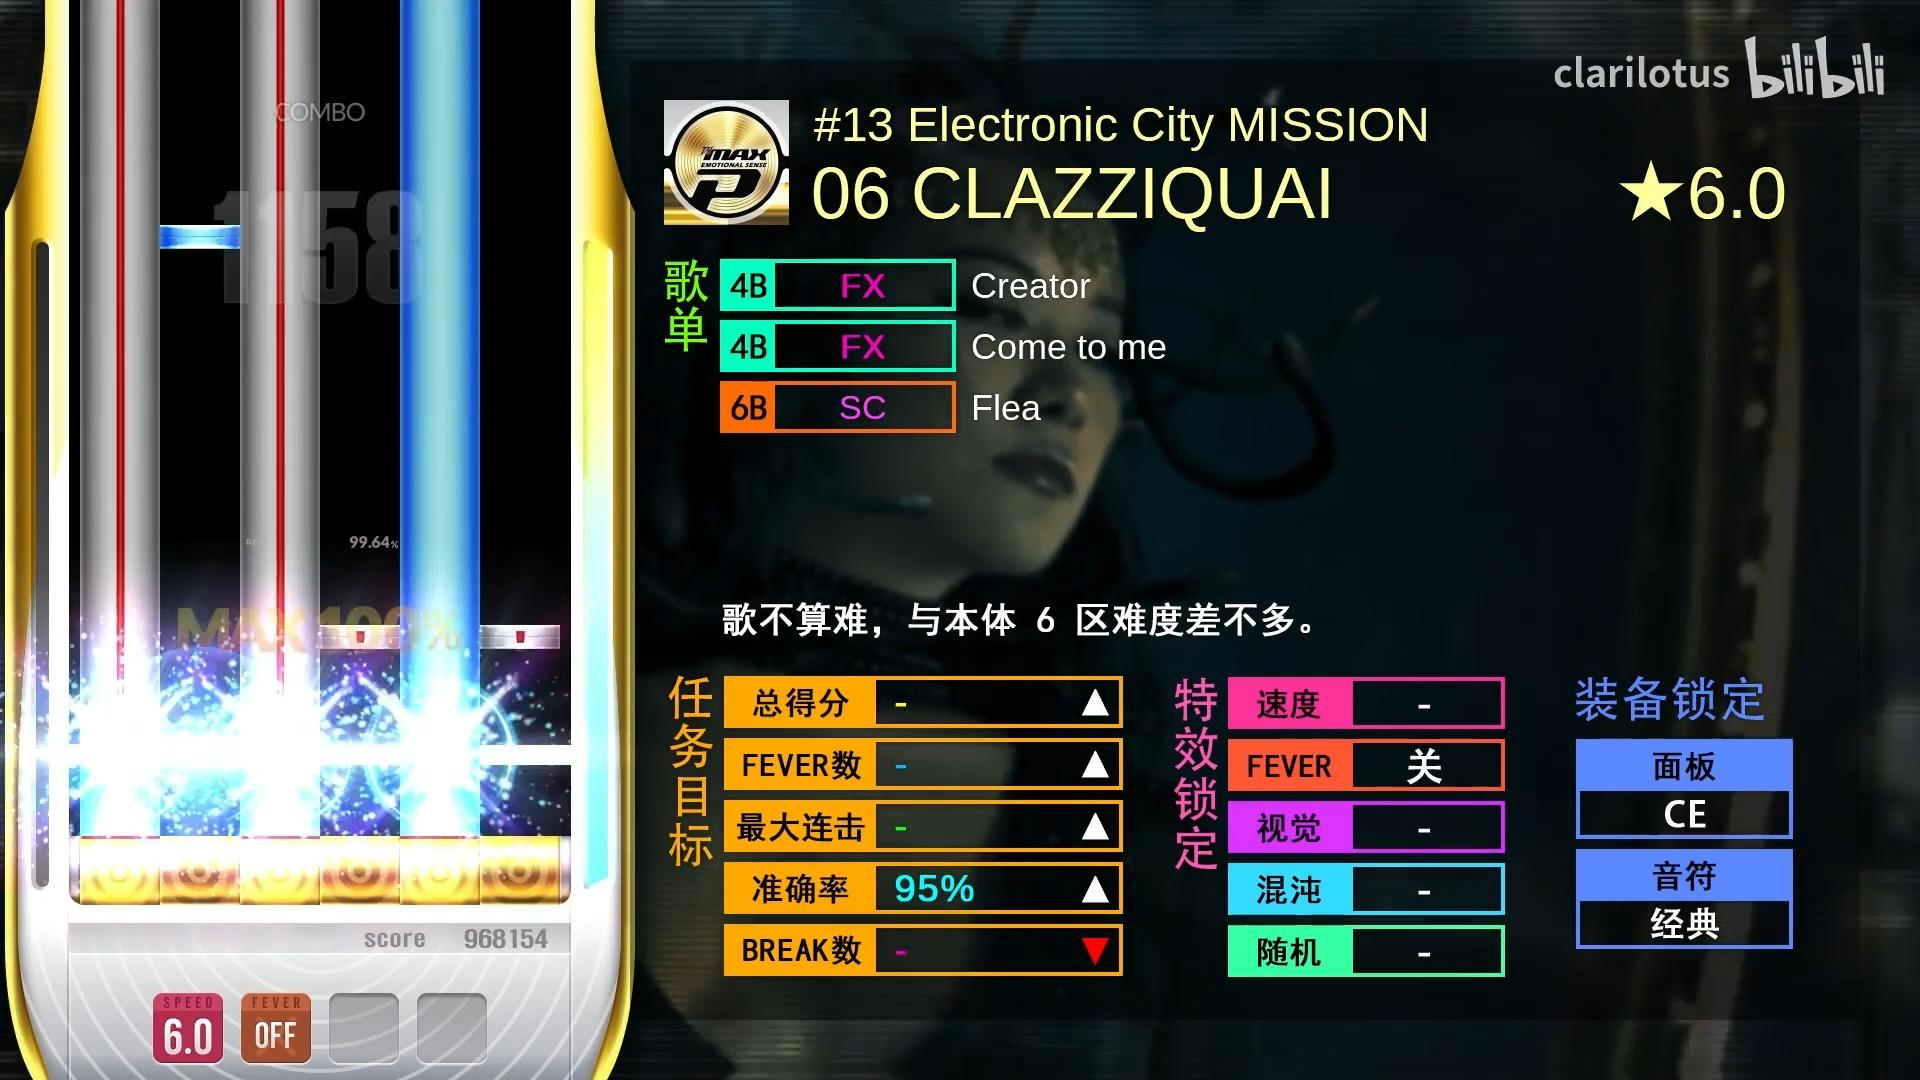note: (160, 225, 241, 249), (319, 626, 400, 650), (481, 626, 560, 650)
